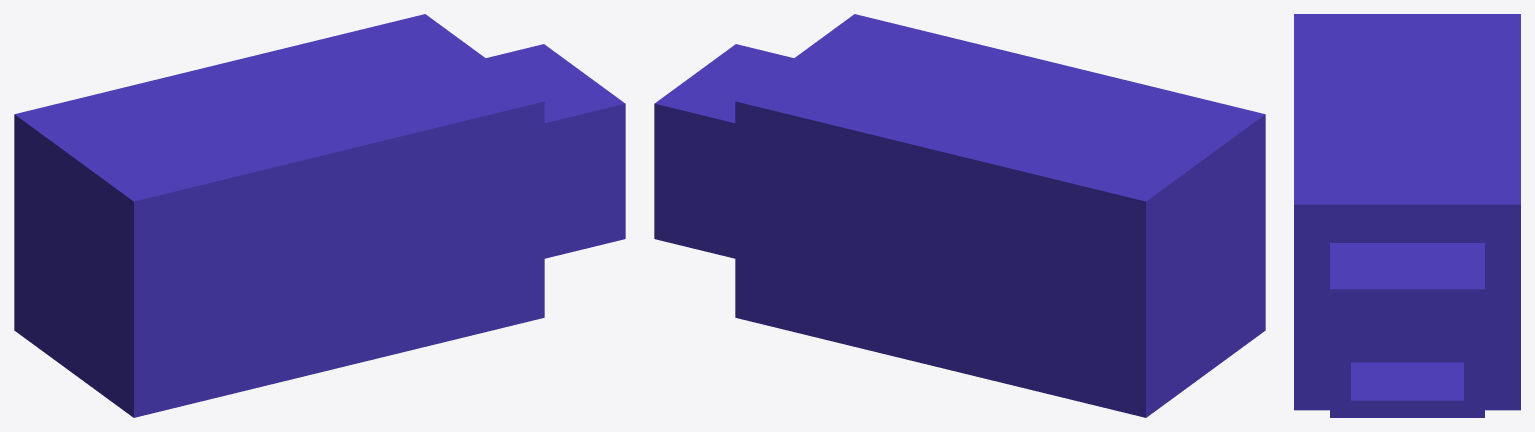
3 views of the same model, side by side, from view 1: azimuth 30°, elevation 25°; view 2: azimuth 150°, elevation 25°; view 3: azimuth 270°, elevation 25° (orthographic). The views are drawn at different scales.
Visible parts, largest first — view 1: Cube.002; view 2: Cube.002; view 3: Cube.002.
Part boxes in pixels (x1=…): Cube.002: x1=14, y1=14, x2=625, y2=417; Cube.002: x1=654, y1=14, x2=1265, y2=417; Cube.002: x1=1294, y1=14, x2=1520, y2=417.
Size of the model in its own units: 158 by 63.97 by 63.97.
